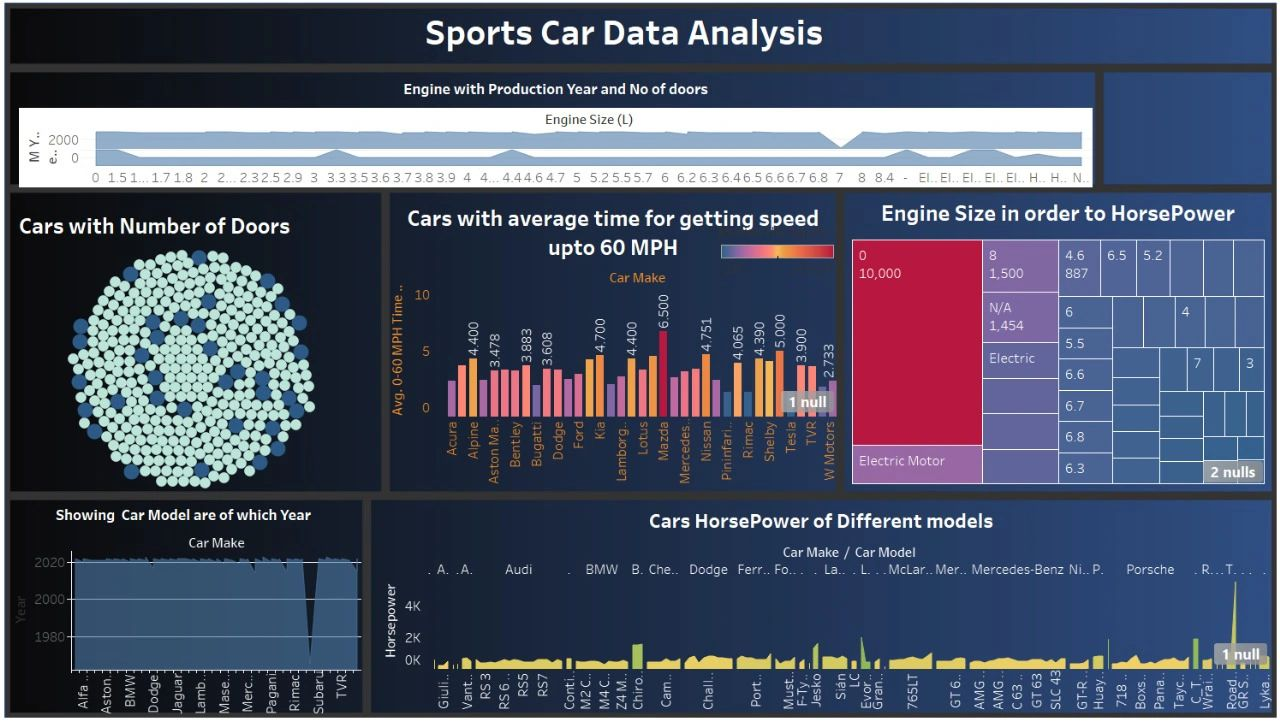

What the dashboard file says about the page in this screenshot:
{"tool":"tableau","page":{"name":"Dashboard 1","canvas":[1600,900],"ordinal":0},"visuals":[{"type":"image","box":[8,8,1584,884]},{"type":"image","param":"C:/Users/adity/Desktop/HR background.png","box":[80,56.2,1521.6,835.9]},{"type":"worksheet","title":"Sheet 7","mark":"Automatic","box":[444,58,720,74]},{"type":"worksheet","title":"Engine with Production Year and No of doors","mark":"Area","rows":["Year","Doors"],"cols":["Engine Size (L)"],"box":[97,141,1254,131]},{"type":"worksheet","title":"Engine Size in order to HorsePower","mark":"Automatic","box":[1066,280,494,342]},{"type":"worksheet","title":"Cars with average time for getting speed upto 60 MPH","mark":"Bar","rows":["0-60 MPH Time (seconds)"],"cols":["Car Make"],"box":[528,286,526,334]},{"type":"worksheet","title":"Cars with Number of Doors","mark":"Circle","box":[93,295,419,329]},{"type":"legend","title":"Engine Size in order to HorsePower","param":"[federated.06w2vj31pm4ppw1ca4hrw14duv7v].[med:Horsepower:qk]","box":[913,313,140,88]},{"type":"worksheet","title":"Showing  Car Model are of which Year","mark":"Area","rows":["Year"],"cols":["Car Make"],"box":[81,639,416,250]},{"type":"worksheet","title":"Cars HorsePower of Different models ","mark":"Area","rows":["Horsepower"],"cols":["Car Make","Car Model"],"box":[513,641,1047,243]}]}

Visuals, with their boxes in screenshot pixels (x1, y1, x2, y2), scaled from the page's 1600x900 canvas onto the 1280x721 screenshot:
image: crop(6, 6, 1274, 715)
image: crop(64, 45, 1279, 715)
"Sheet 7" worksheet: crop(355, 46, 931, 106)
"Engine with Production Year and No of doors" worksheet (Area marks): crop(78, 113, 1081, 218)
"Engine Size in order to HorsePower" worksheet: crop(853, 224, 1248, 498)
"Cars with average time for getting speed upto 60 MPH" worksheet (Bar marks): crop(422, 229, 843, 497)
"Cars with Number of Doors" worksheet (Circle marks): crop(74, 236, 410, 500)
"Engine Size in order to HorsePower" legend: crop(730, 251, 842, 321)
"Showing  Car Model are of which Year" worksheet (Area marks): crop(65, 512, 398, 712)
"Cars HorsePower of Different models " worksheet (Area marks): crop(410, 514, 1248, 708)
